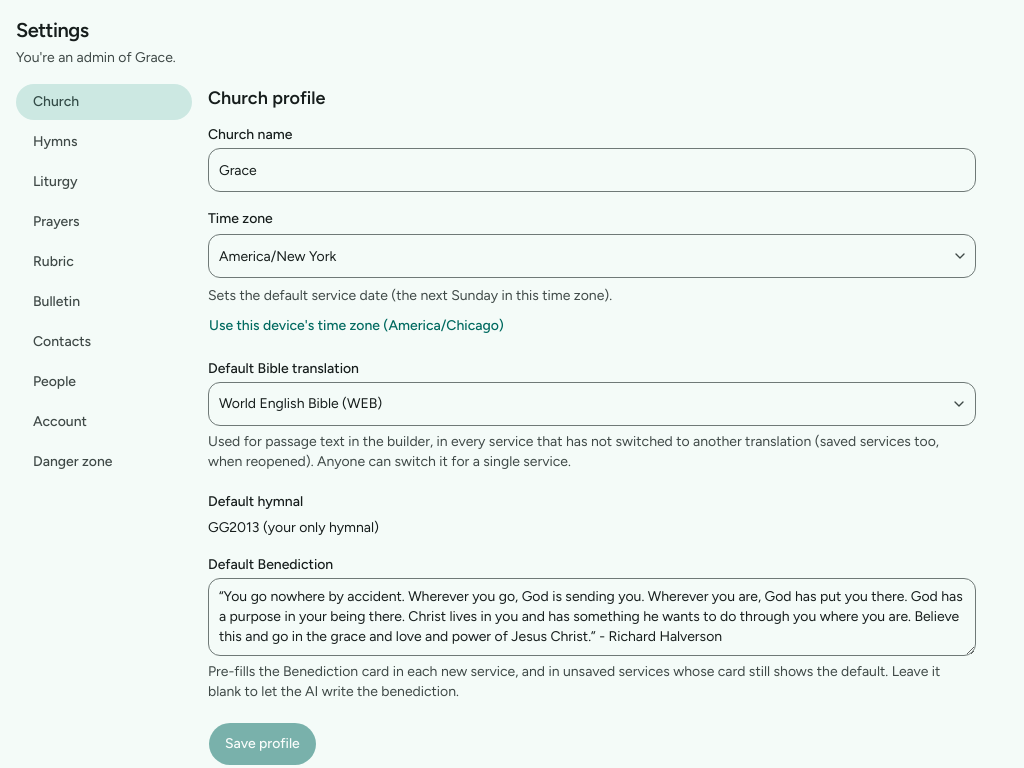
Test case: Settings → Church (slice 6a-1) › lets an admin change only the name: the request sends the name alone and the profile is cached
Expected: the button "Save profile" is disabled, [208,722,317,766]
Expected: the text "Used for passage text in the builder, in every service that has not switched to another translation (saved services too," is shown, [208,433,939,470]
Replace the text in the field labelled "Church name" with " Example Church ": (592, 170) [208,148,976,192]
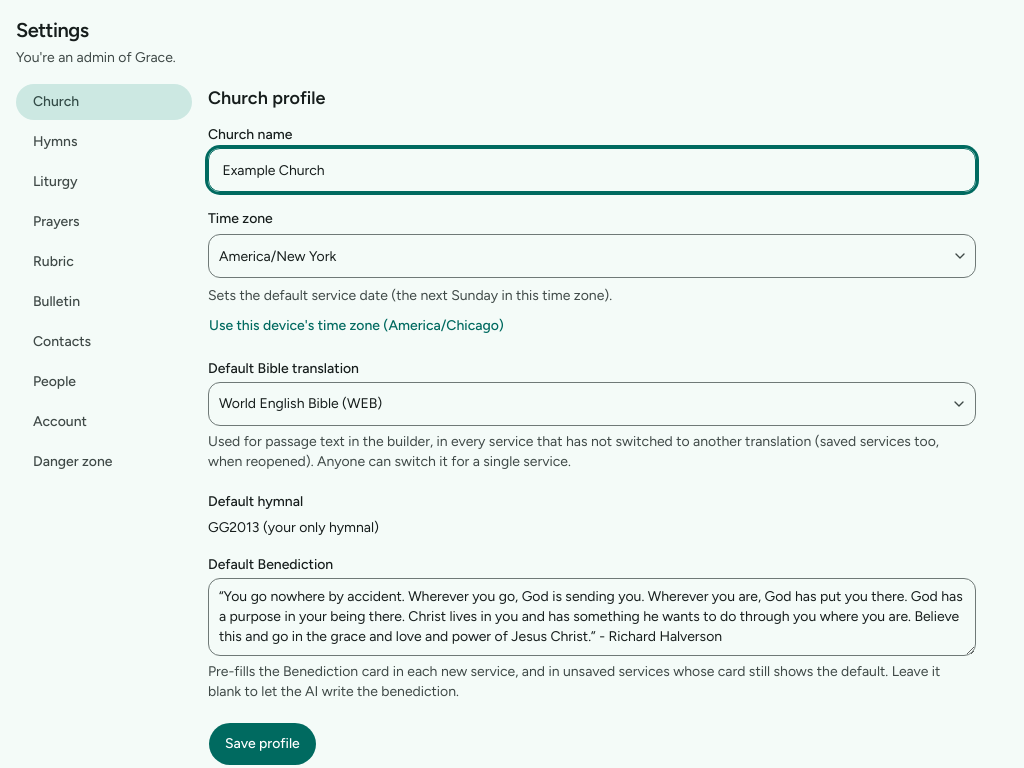
Click the button "Save profile": (262, 744) [208,722,317,766]
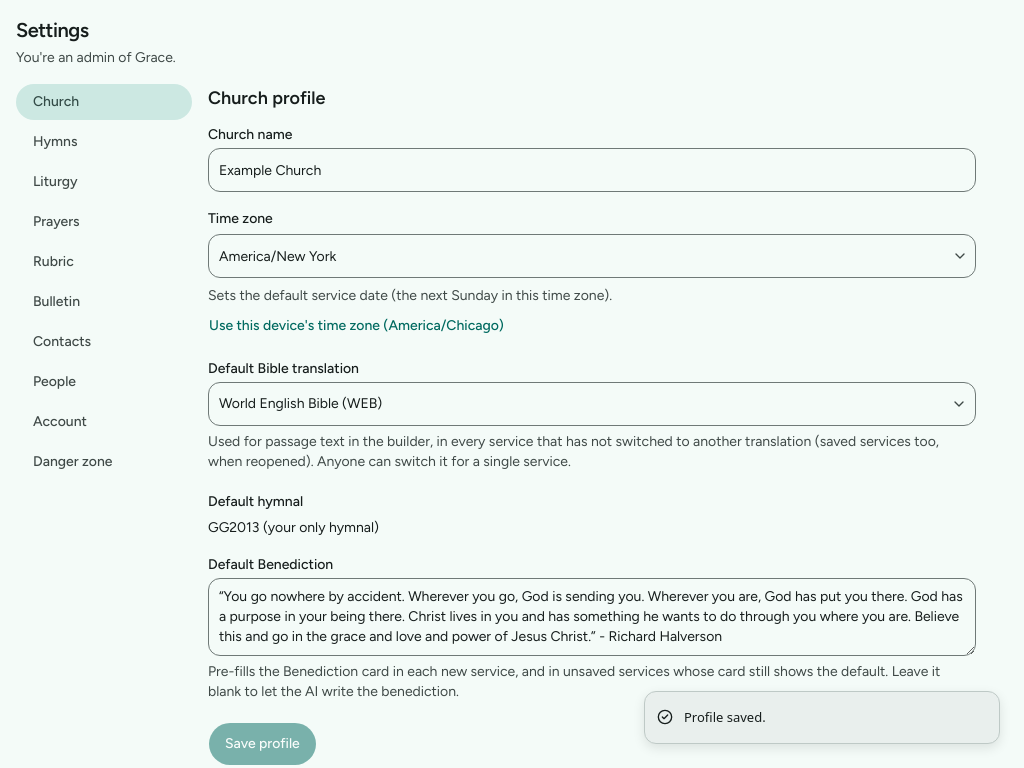
Expected: the text "Profile saved." is shown, [684,708,766,727]
Expected: the button "Save profile" is disabled, [208,722,317,766]
